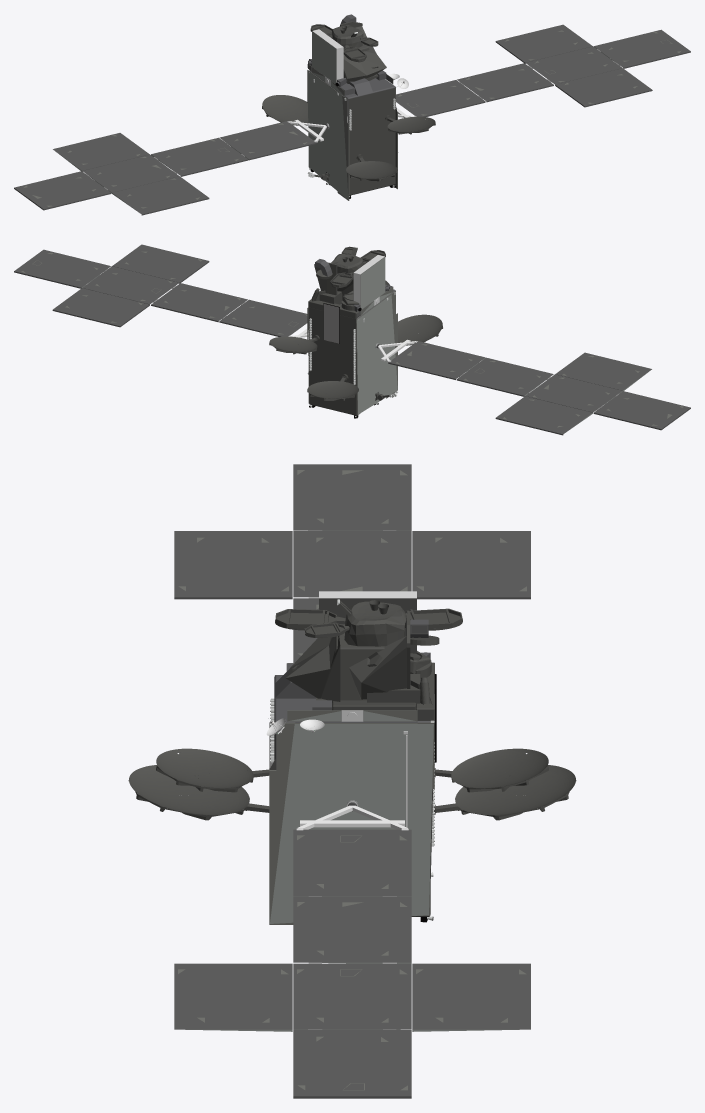
File: lunar-laser-communications-demonstration-llcd.glb
3 renders of one model, top to bottom at view 1: azimuth 30°, elevation 25°; view 2: azimuth 150°, elevation 25°; view 3: azimuth 270°, elevation 25°, orthographic. The views are drawn at different scales.
Parts seen in each view (by area): view 1: Layer_0; view 2: Layer_0; view 3: Layer_0.
Boxes of the visible parts, box(x1,y1,x2,y2) form: Layer_0: box(14, 14, 690, 215); Layer_0: box(14, 244, 690, 435); Layer_0: box(128, 464, 576, 1098).
Size of the model in its own units: 268 by 61.25 by 80.36.
2 materials, 2 textured.
